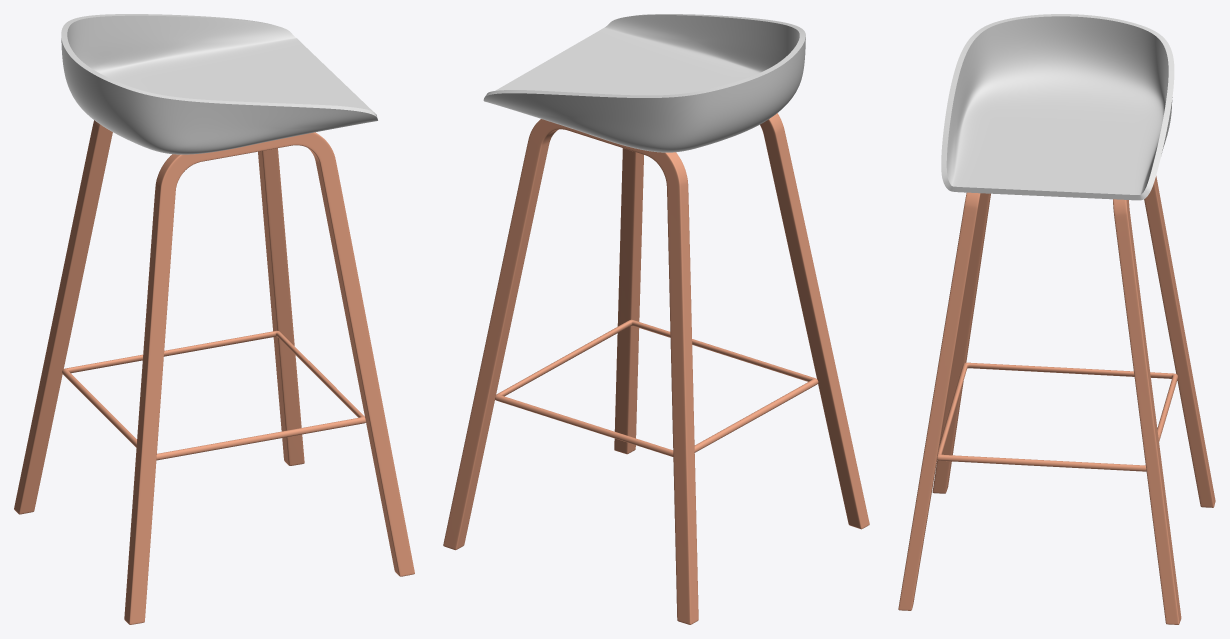
Rendered from Stool.glb.
3 views of the same model, side by side, from view 1: azimuth 30°, elevation 25°; view 2: azimuth 150°, elevation 25°; view 3: azimuth 270°, elevation 25° (orthographic). The views are drawn at different scales.
Parts seen in each view (by area): view 1: Object_2, Object_4, Object_3; view 2: Object_2, Object_4, Object_3; view 3: Object_4, Object_2, Object_3.
Part boxes in pixels (x1,y1,x2,y2): Object_2: (14,120,414,624); Object_4: (61,14,377,154); Object_3: (62,330,365,460); Object_2: (443,113,869,624); Object_4: (483,14,805,152); Object_3: (495,319,818,456); Object_4: (941,14,1174,200); Object_2: (898,176,1215,624); Object_3: (937,362,1177,471).
Size of the model in its own units: 0.788 by 1.28 by 0.7632.
